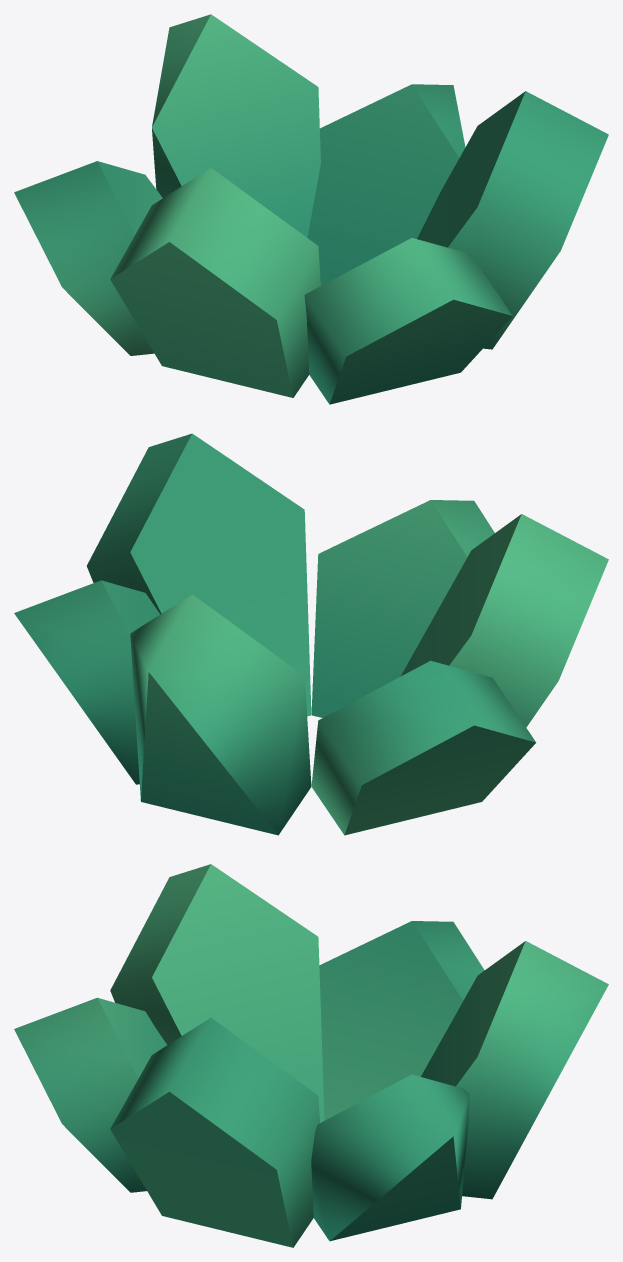
Rendered from cc0-grass-plant-lod1.glb.
3 views of the same model, one above another, from view 1: azimuth 30°, elevation 25°; view 2: azimuth 150°, elevation 25°; view 3: azimuth 270°, elevation 25° (orthographic). The views are drawn at different scales.
Parts seen in each view (by area): view 1: part_0; view 2: part_0; view 3: part_0.
Part boxes in pixels (box(x1,y1,x2,y2)): part_0: box(14, 14, 608, 404); part_0: box(14, 433, 608, 835); part_0: box(14, 864, 608, 1247).
Bounding box in the file's own units: 1.11 × 0.5196 × 1.24.
1 material, 1 textured.
